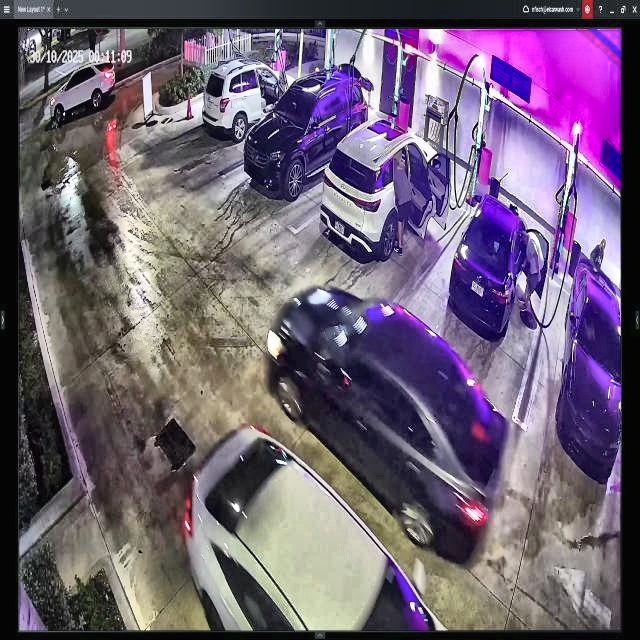Car: (265, 285, 508, 564), (180, 423, 444, 640), (326, 115, 447, 262), (248, 68, 366, 194), (448, 196, 542, 330), (203, 59, 294, 142)
